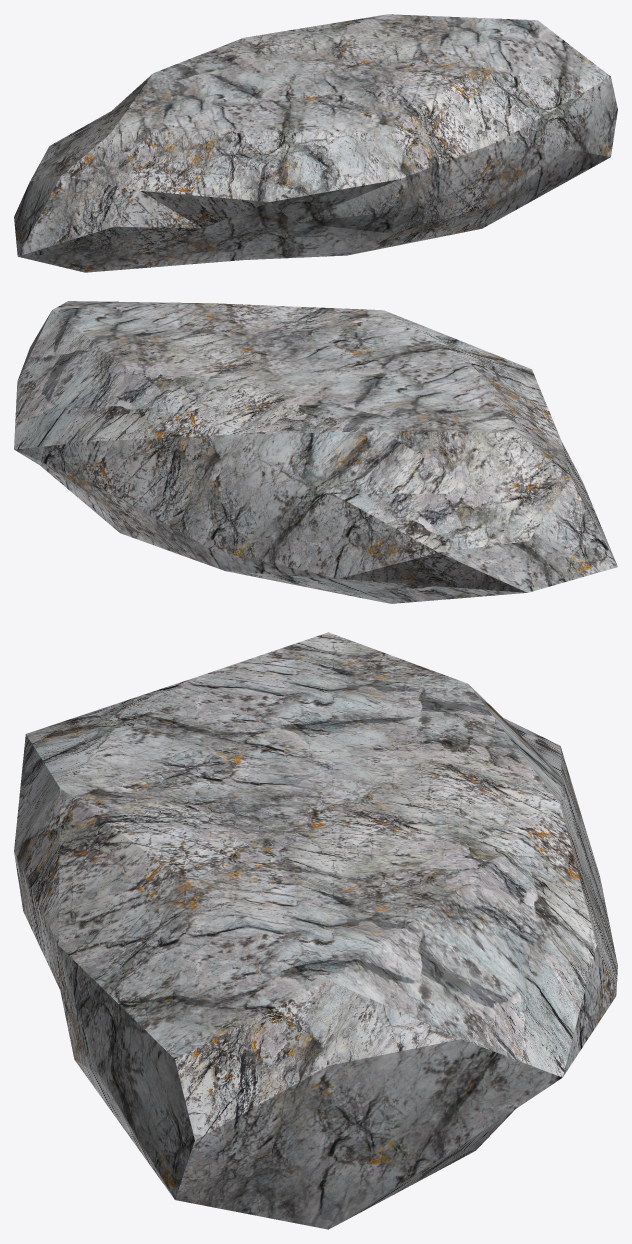
File: granite_slab_mid.gltf
3 views of the same model, one above another, from view 1: azimuth 30°, elevation 25°; view 2: azimuth 150°, elevation 25°; view 3: azimuth 270°, elevation 25° (orthographic). The views are drawn at different scales.
Parts seen in each view (by area): view 1: granite_slab_mid; view 2: granite_slab_mid; view 3: granite_slab_mid.
Boxes of the visible parts, x1,y1,x2,y2 form: granite_slab_mid: (14, 14, 617, 272); granite_slab_mid: (14, 301, 617, 603); granite_slab_mid: (14, 632, 617, 1229).
Bounding box in the file's own units: 2.85 × 0.7536 × 1.52.
Materials: 1 (1 with a texture image).
